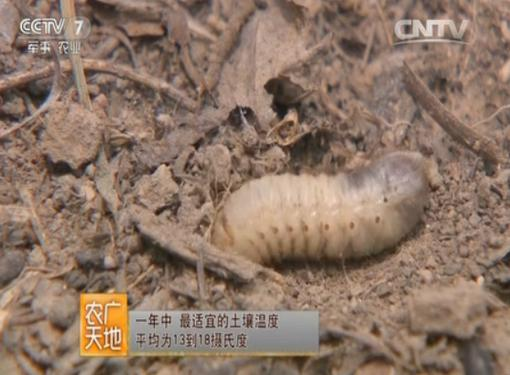grub: (208, 148, 430, 262)
